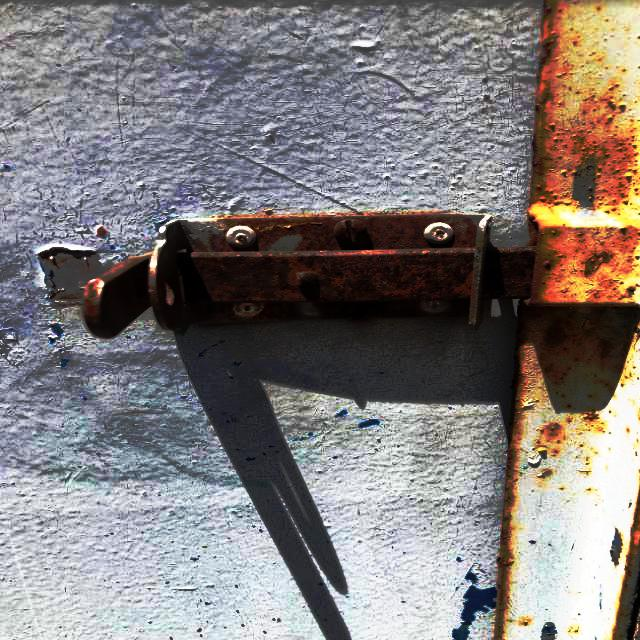Corrosion: (491, 0, 640, 640), (80, 209, 538, 338), (600, 488, 640, 640)
